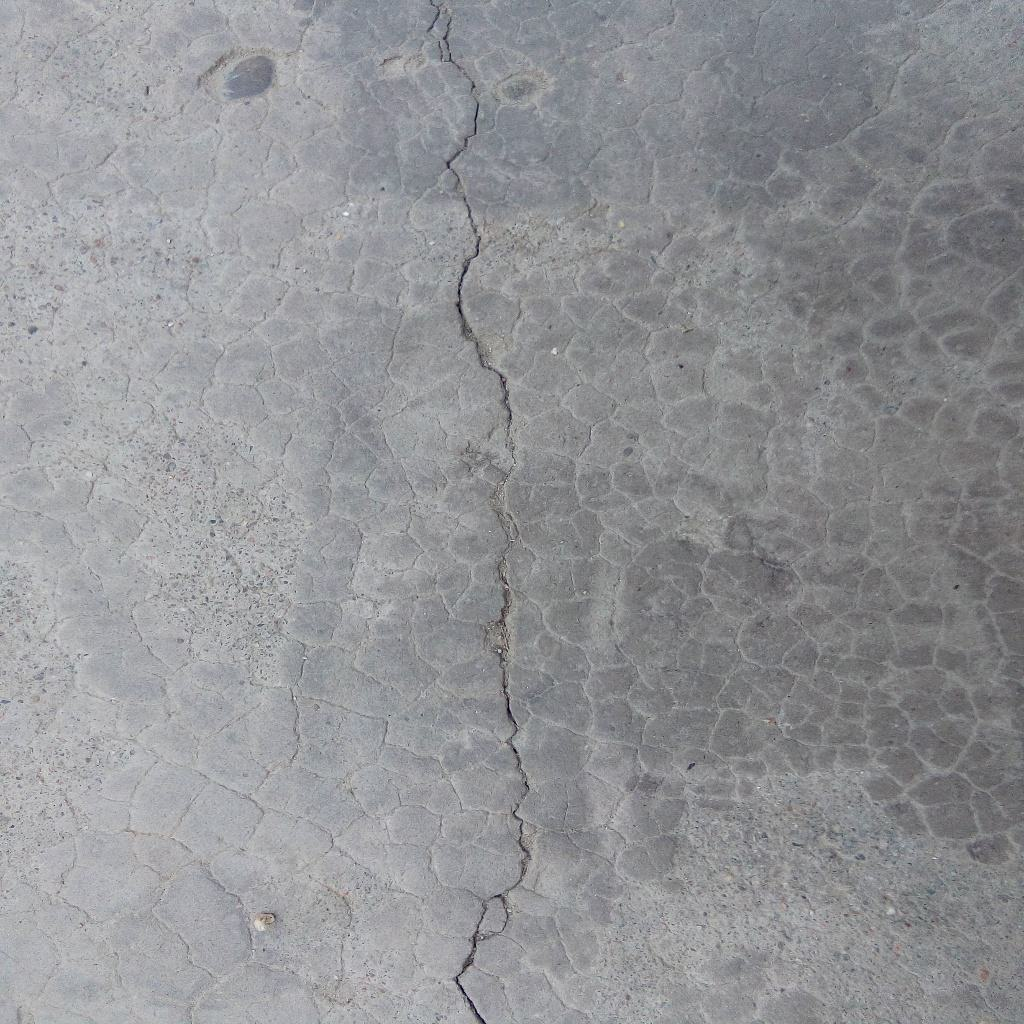Crack: (425, 1, 530, 1024)
